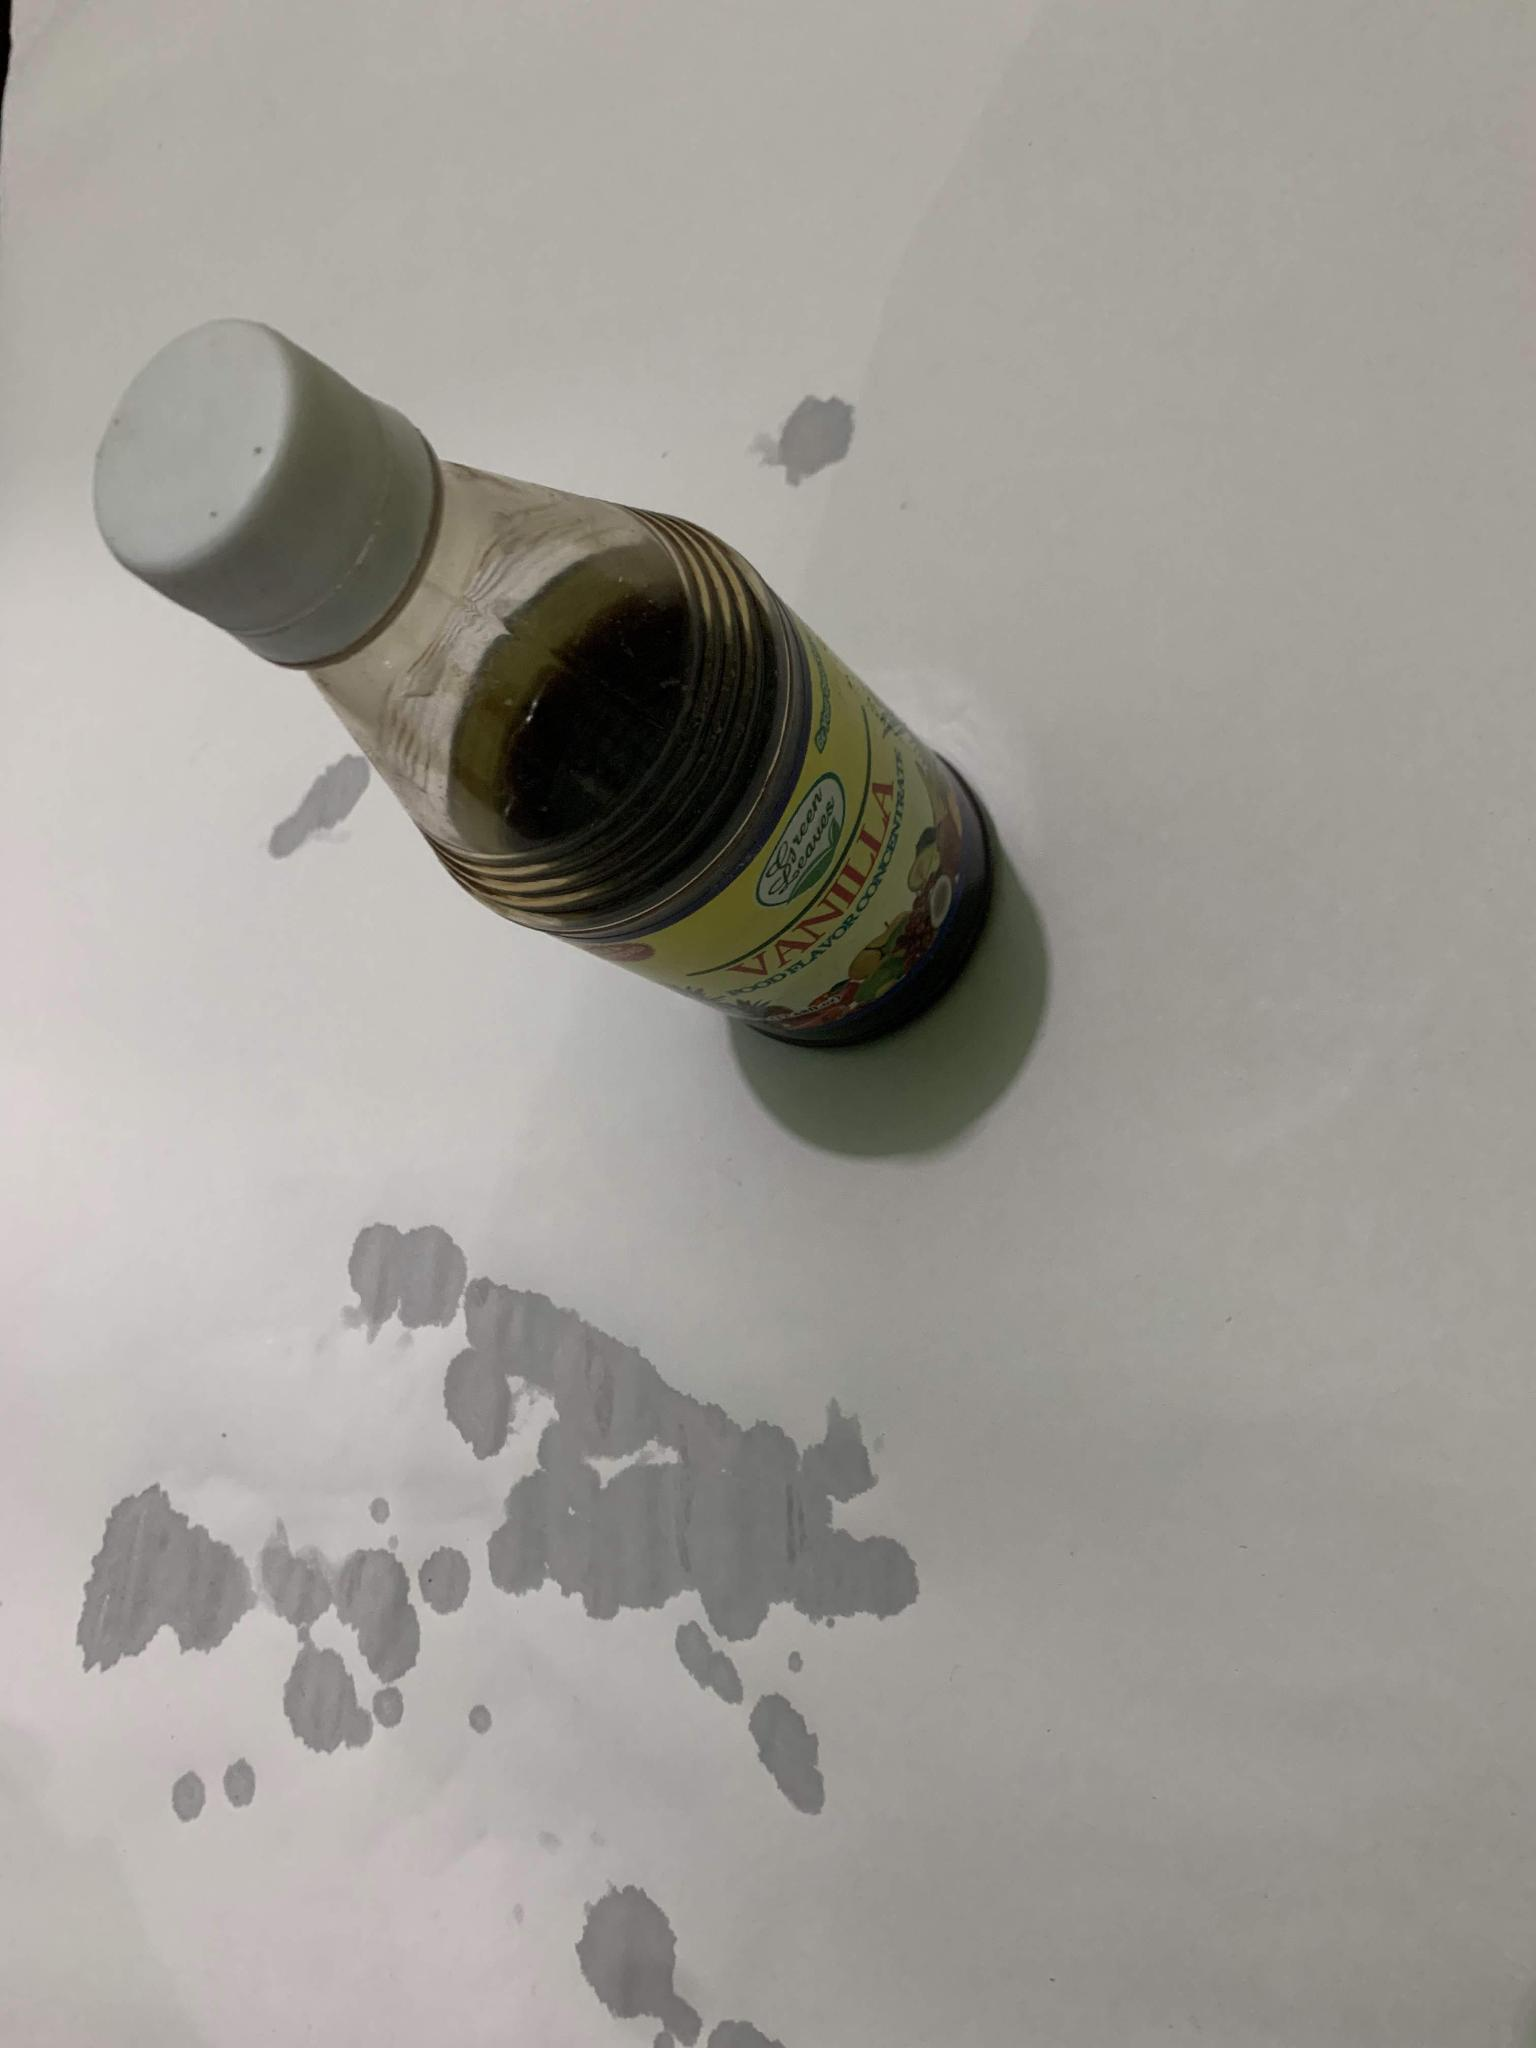bottle: (70, 296, 992, 1052)
